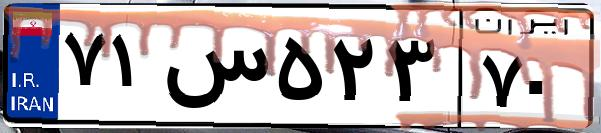0: (525, 38, 570, 115)
1: (110, 28, 158, 98)
2: (330, 28, 385, 110)
3: (385, 28, 445, 110)
5: (270, 28, 330, 110)
7: (57, 26, 110, 100), (475, 38, 525, 113)
س: (158, 20, 270, 120)
